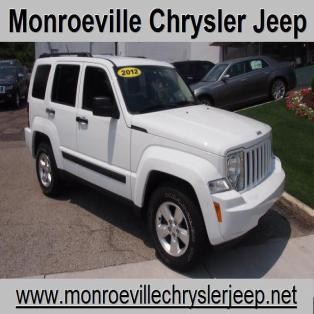Auto: (21, 48, 290, 275)
